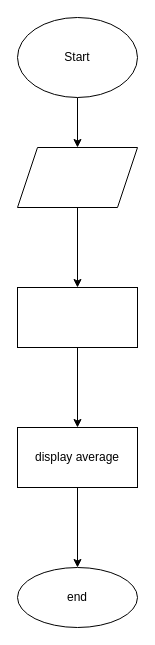
The diagram is 155 pixels wide and 645 high, and some of its shapes have lost their labels. Here are the shapes that lost their labels. From the top down, the centre of each, then its label:
At (x=77, y=177): "input all students marks".
At (x=77, y=317): "divide marks by number of students".
